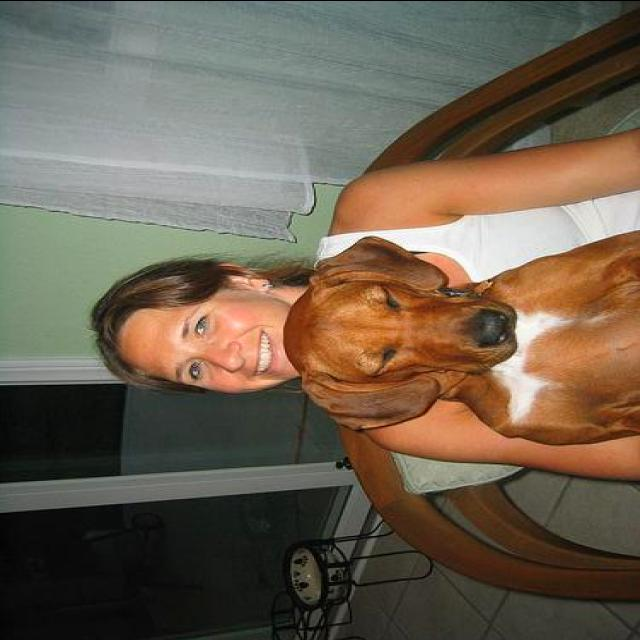rhodesian_ridgeback: (280, 225, 638, 446)
